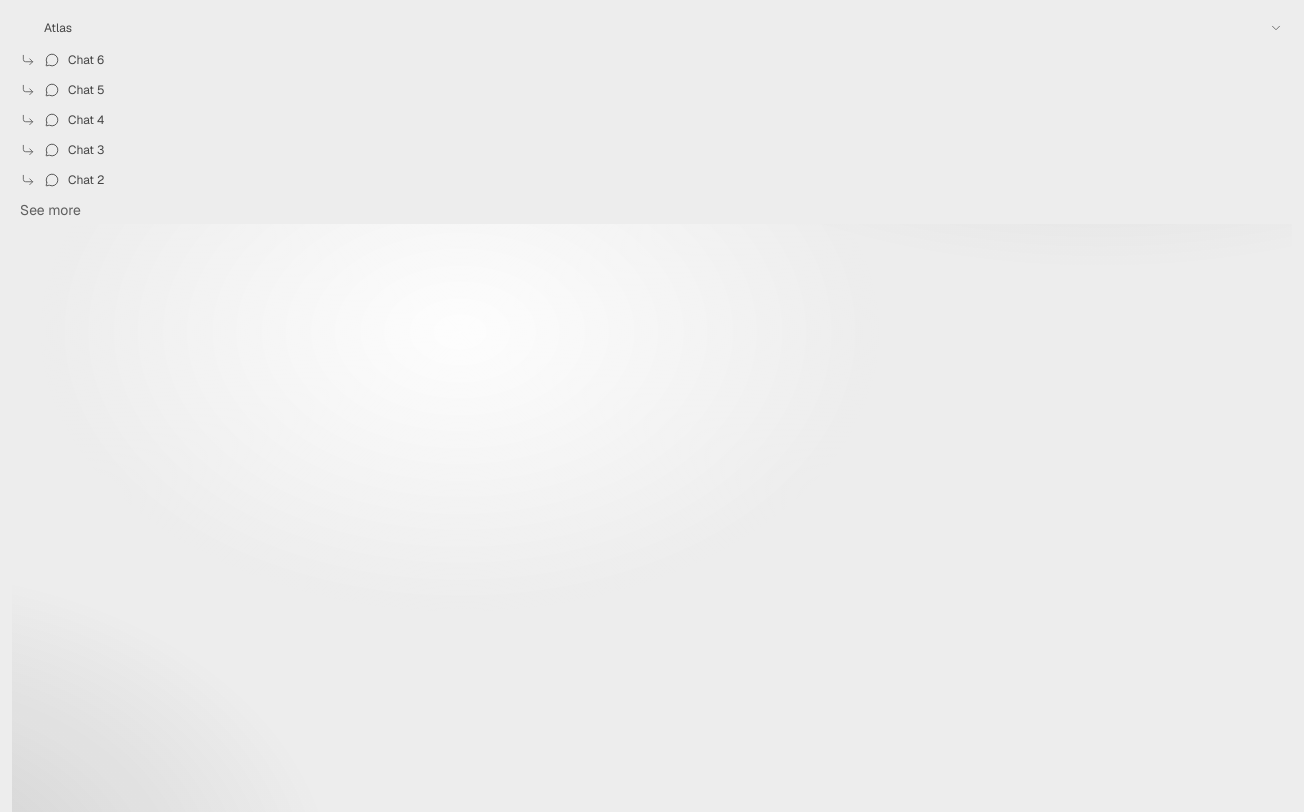
Test: SidebarProjectItem › shows more rows with See more until everything is listed
Check: the number of links "Chat 6" is 5, box [21,52,104,68]; [21,82,104,98]; [21,112,104,128]; [21,142,104,158]; [21,172,104,188]
Click the button "See more": [50, 210] box [12,196,1292,224]
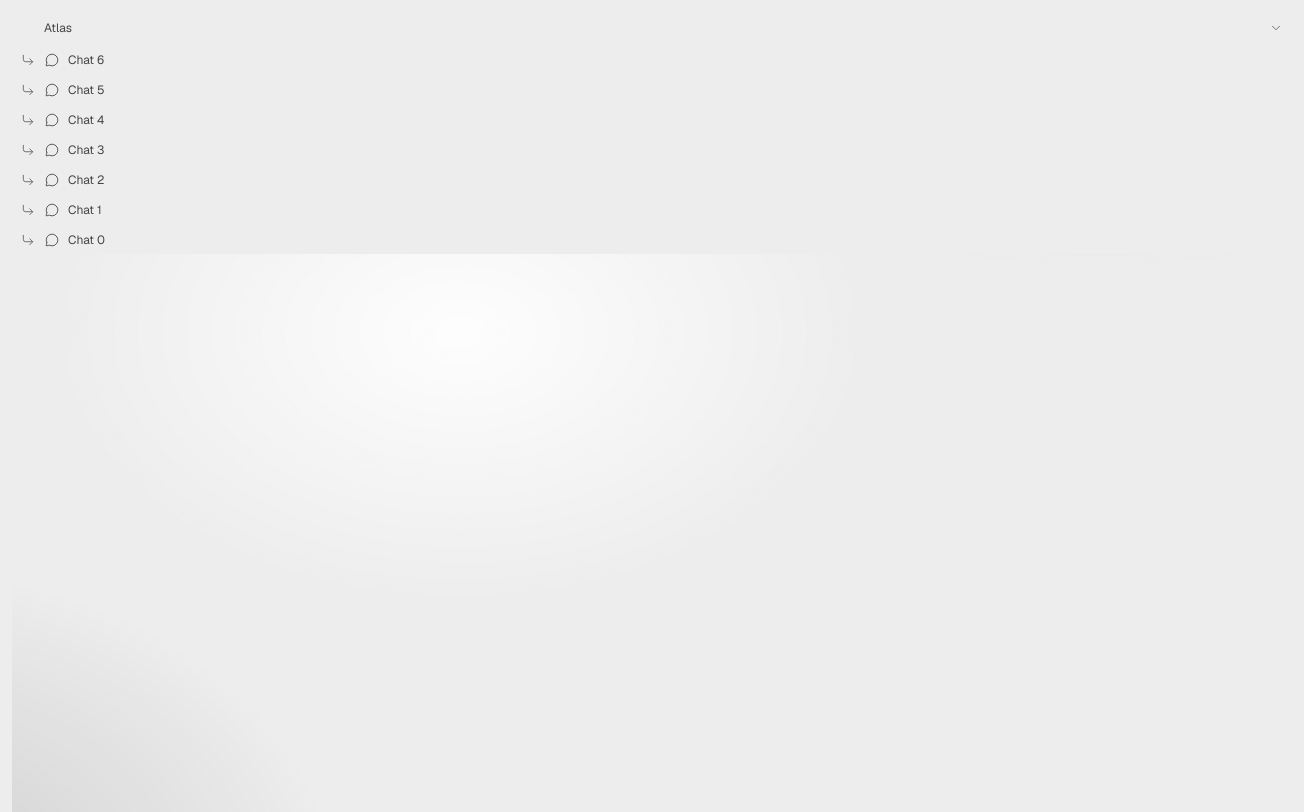
Check: the number of links "Chat 6" is 7
Check: the button "See more" is gone
